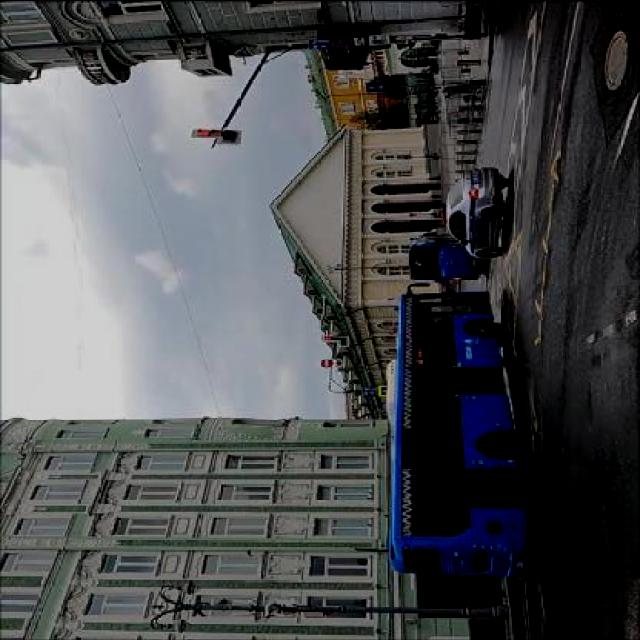bus: (389, 291, 533, 580), (409, 234, 483, 283)
